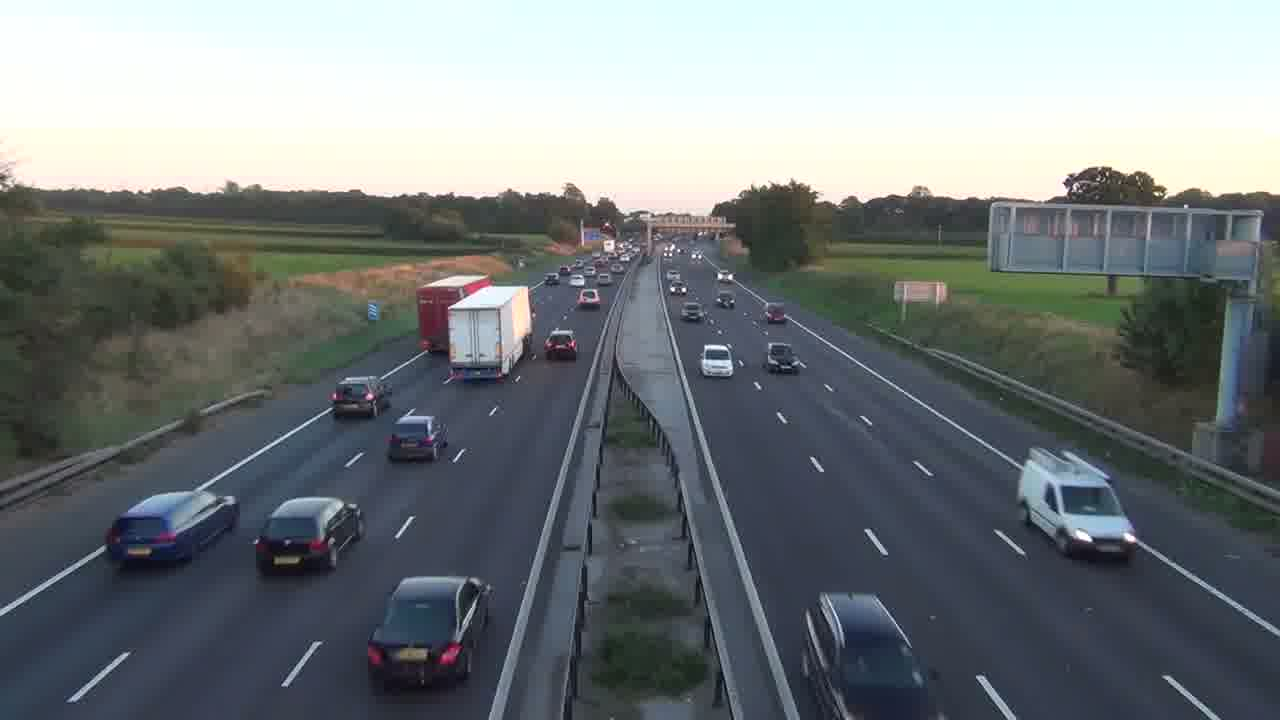car: (799, 591, 937, 718), (367, 575, 492, 691), (253, 495, 366, 576), (386, 412, 449, 462), (329, 375, 388, 420), (764, 340, 807, 375), (699, 344, 735, 378), (544, 328, 578, 361), (716, 291, 736, 308)
truck: (1017, 445, 1138, 562), (105, 489, 240, 567), (447, 284, 533, 382), (416, 273, 493, 355)
